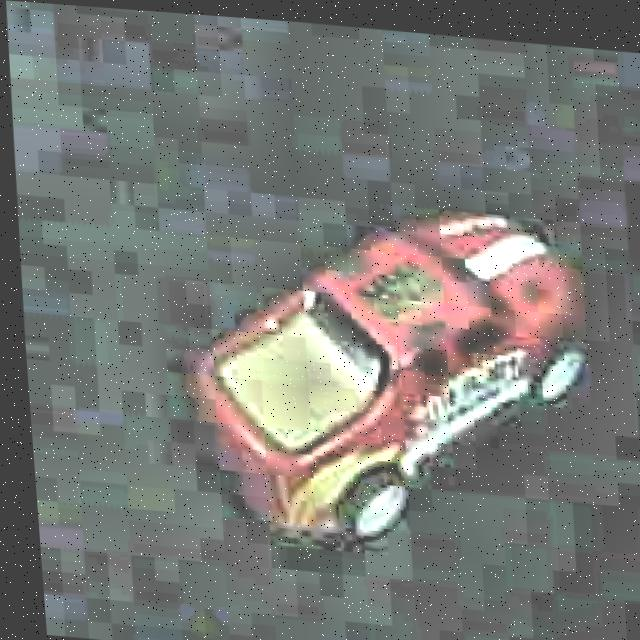car: (165, 170, 611, 567)
